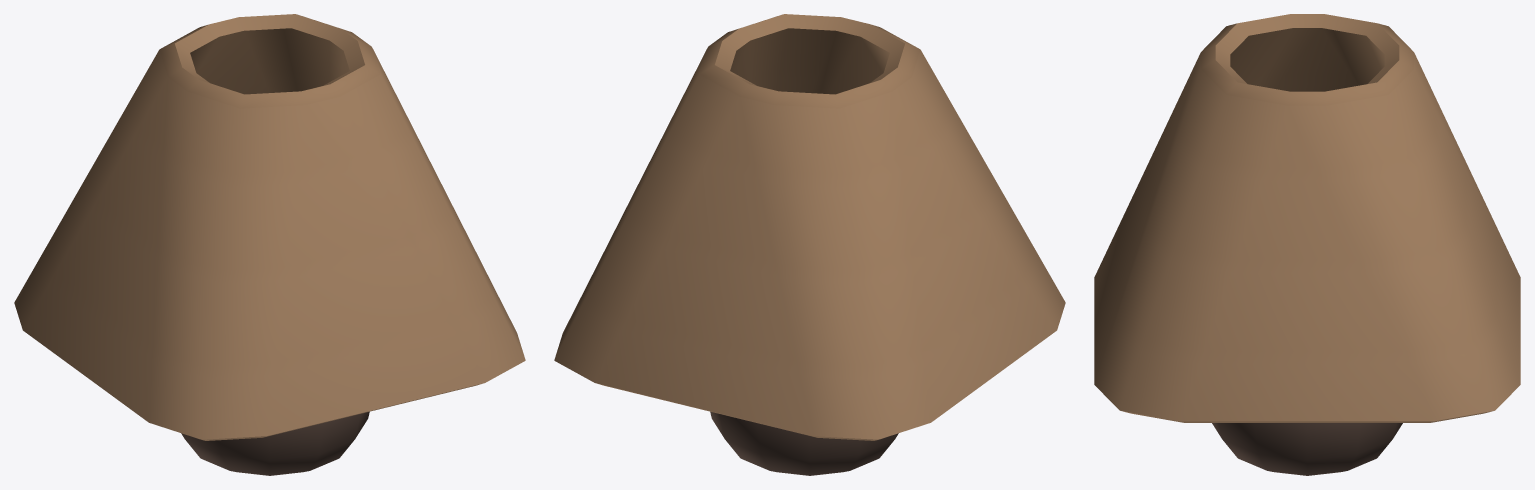
Rendered from lamp_table.obj.
3 renders of one model, left to right at view 1: azimuth 30°, elevation 25°; view 2: azimuth 150°, elevation 25°; view 3: azimuth 270°, elevation 25°, orthographic.
Parts seen in each view (by area): view 1: lamp_table_Sphere.001; view 2: lamp_table_Sphere.001; view 3: lamp_table_Sphere.001.
Boxes of the visible parts, x1,y1,x2,y2 form: lamp_table_Sphere.001: (14, 14, 525, 475); lamp_table_Sphere.001: (554, 14, 1065, 475); lamp_table_Sphere.001: (1094, 14, 1520, 475).
Size of the model in its own units: 1 by 1.02 by 1.
Materials: 1 (1 with a texture image).
